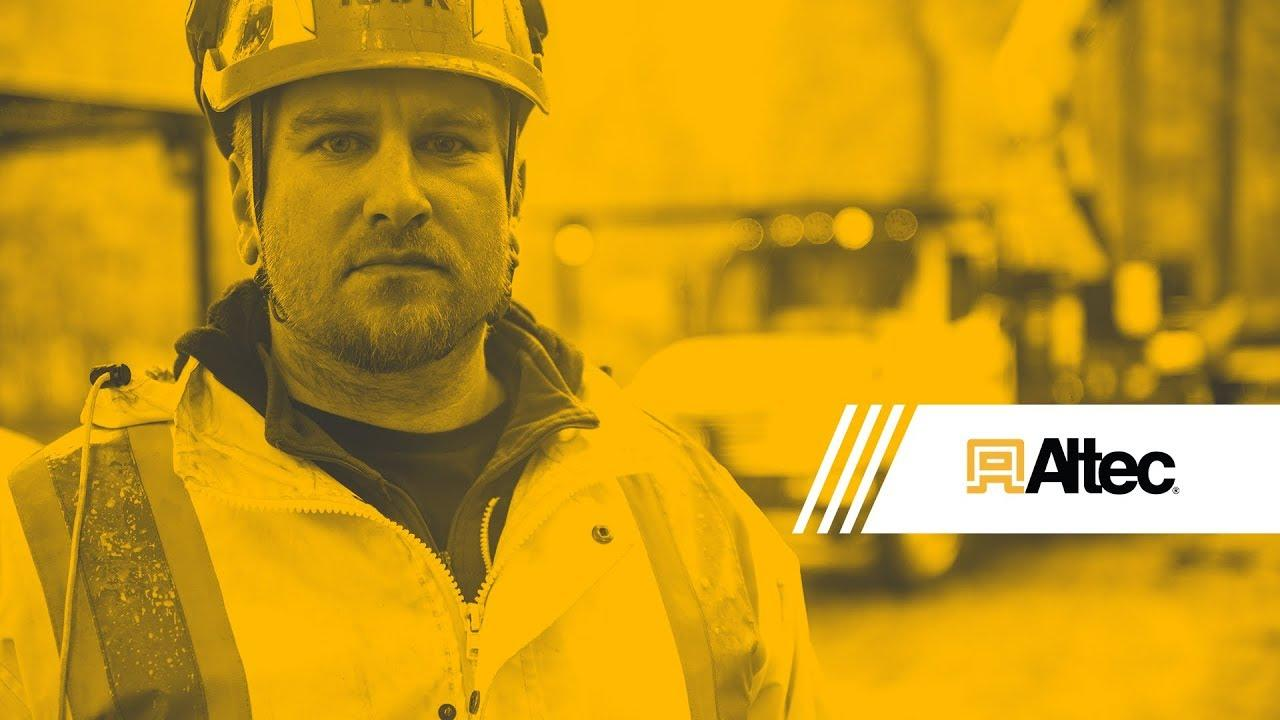helmet: (180, 1, 562, 119)
